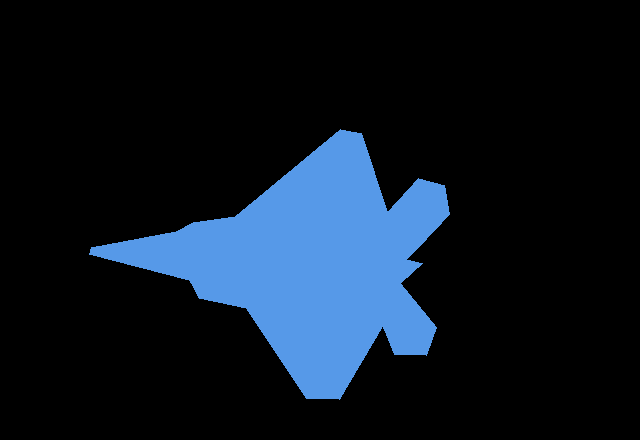Airplane: (89, 129, 450, 399)
